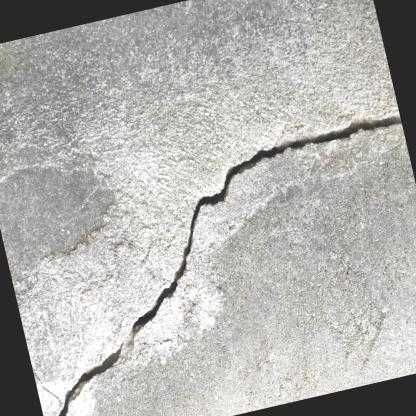crack: (56, 114, 402, 416)
